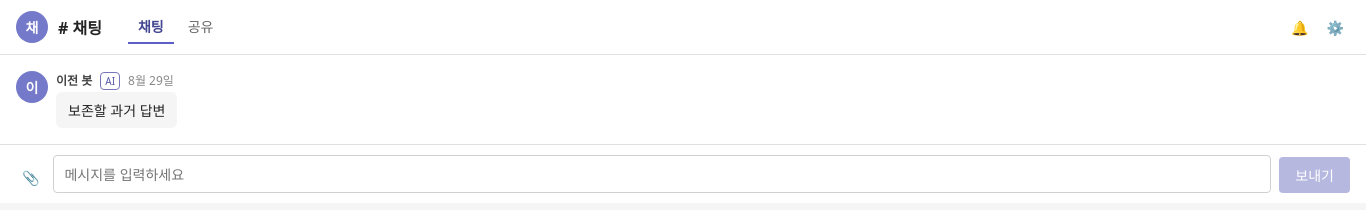
Test case: shows historical AI replies but offers only people as mention targets and makes no AI queries
The image size is (1366, 210).
Check: the text "보존할 과거 답변" is shown, box 56,92 -> 178,128
Type "@" into the text box.
click(662, 174); type("@")  # box 54,155 -> 1271,193
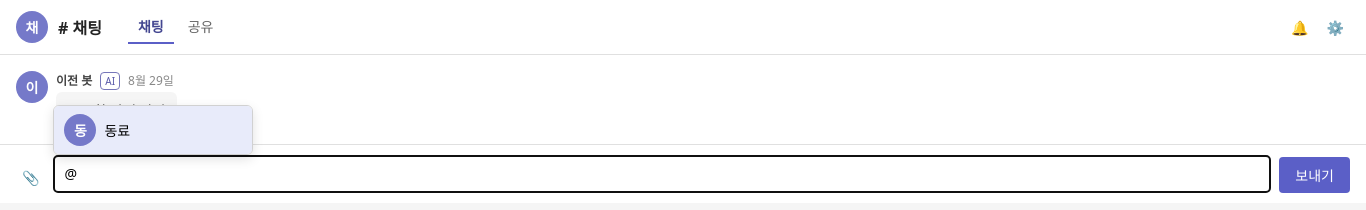
Check: the option "동 동료" is shown, box 54,106 -> 252,154
